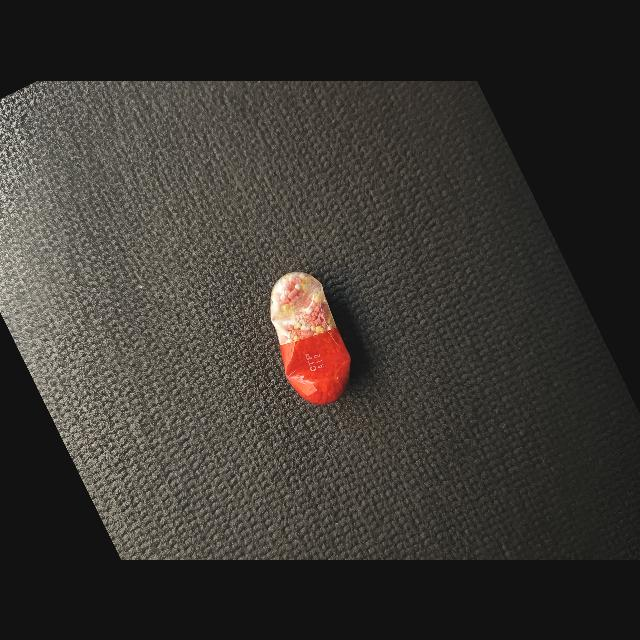Defective Capsule: (270, 271, 351, 405)
